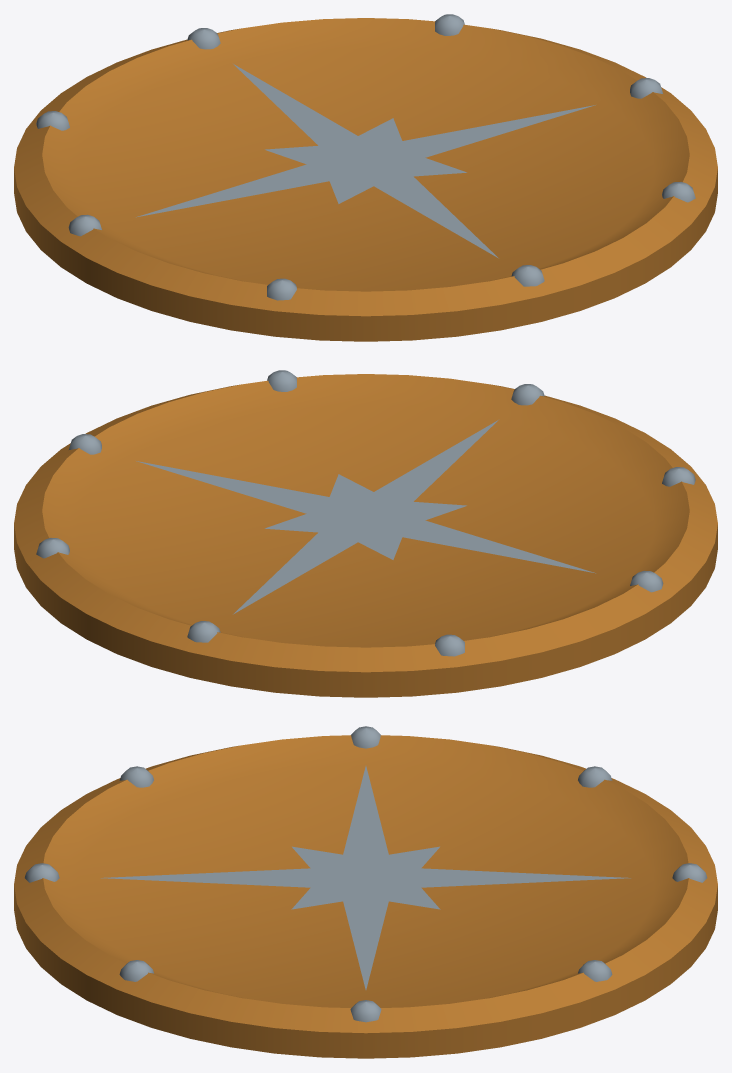
Rendered from medallion.dae.
3 renders of one model, top to bottom at view 1: azimuth 30°, elevation 25°; view 2: azimuth 150°, elevation 25°; view 3: azimuth 270°, elevation 25°, orthographic.
Visible parts, largest first — view 1: accent, metal; view 2: accent, metal; view 3: accent, metal.
Part boxes in pixels (box(x1,y1,x2,y2)): accent: box(14, 18, 717, 341); metal: box(36, 14, 695, 300); accent: box(14, 374, 717, 697); metal: box(36, 370, 695, 656); accent: box(14, 735, 717, 1058); metal: box(24, 726, 707, 1022).
Size of the model in its own units: 2 by 0.141 by 2.
